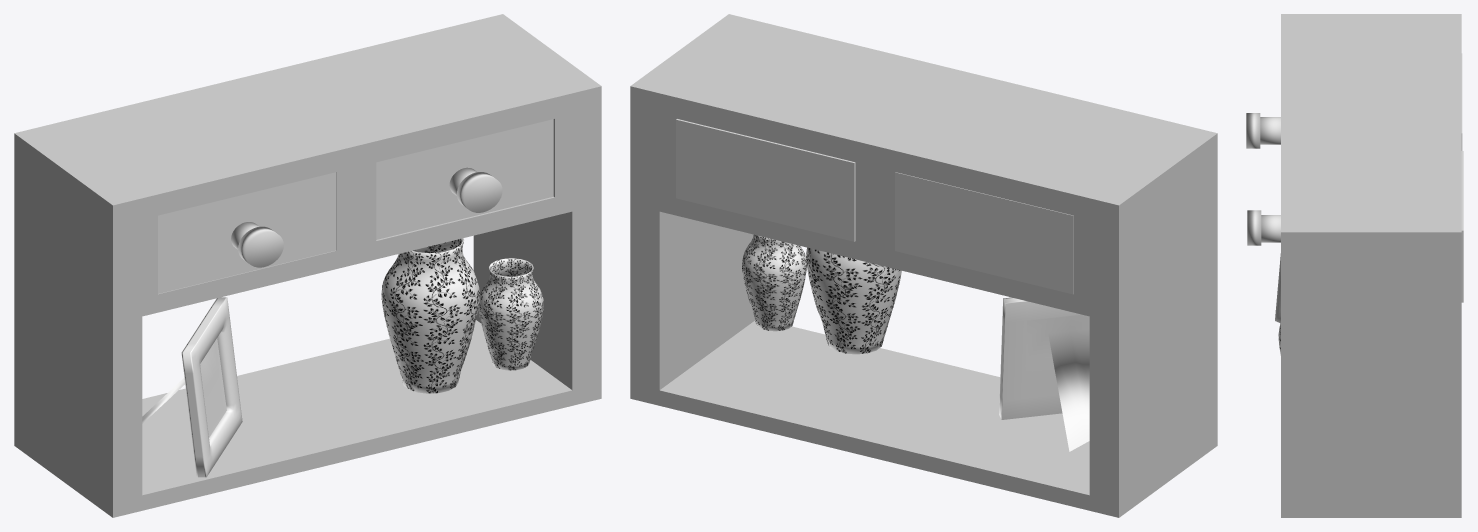
File: drawers.glb
3 renders of one model, left to right at view 1: azimuth 30°, elevation 25°; view 2: azimuth 150°, elevation 25°; view 3: azimuth 270°, elevation 25°, orthographic. The views are drawn at different scales.
Visible parts, largest first — view 1: Cube, S. vas.001, Cube.003, Cube.004, Cube.002, Cube.001, Cylinder.001, Cylinder.002; view 2: Cube, Cube.004, Cube.003, S. vas.001, Cube.001, Cube.002; view 3: Cube, Cylinder, Cylinder.003, Cylinder.001, Cylinder.002, Cube.004.
Part boxes in pixels (x1,y1,x2,y2): Cube: (14, 14, 601, 517); S. vas.001: (381, 238, 543, 393); Cube.003: (158, 172, 336, 293); Cube.004: (376, 119, 553, 239); Cube.002: (181, 297, 242, 477); Cube.001: (142, 340, 223, 433); Cylinder.001: (238, 226, 283, 267); Cylinder.002: (456, 172, 502, 212); Cube: (630, 14, 1217, 517); Cube.004: (676, 119, 855, 241); Cube.003: (895, 172, 1073, 294); S. vas.001: (742, 234, 901, 354); Cube.001: (1024, 314, 1089, 451); Cube.002: (999, 297, 1080, 419); Cube: (1281, 14, 1461, 517); Cylinder: (1260, 117, 1280, 144); Cylinder.003: (1261, 215, 1280, 242); Cylinder.001: (1246, 113, 1260, 148); Cylinder.002: (1247, 210, 1261, 245); Cube.004: (1461, 151, 1463, 302).
Bounding box in the file's own units: 5.72 × 3.5 × 2.41.
4 materials, 1 textured.
